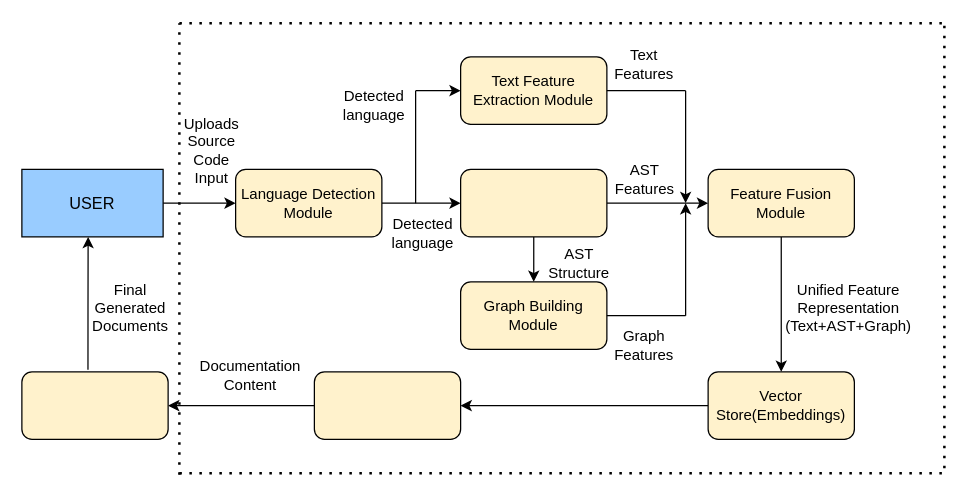
Some shapes in this 971 by 499 pixel diagram are drawn without their labels. Each missing label, with the centre of its shape:
AST Analysis Module: the point at 533,202
Documentation Module: the point at 94,405
LLM Engine: the point at 387,405
